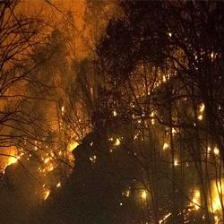fire: (43, 132, 77, 198), (194, 179, 224, 220), (4, 150, 24, 169)
